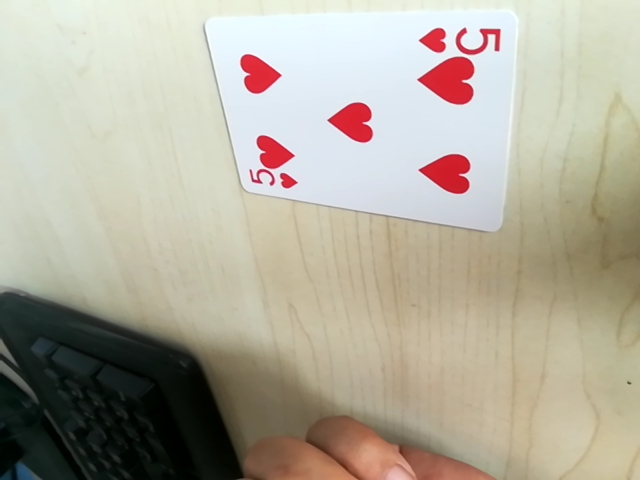hx 5: (418, 18, 502, 59), (246, 167, 302, 195)
